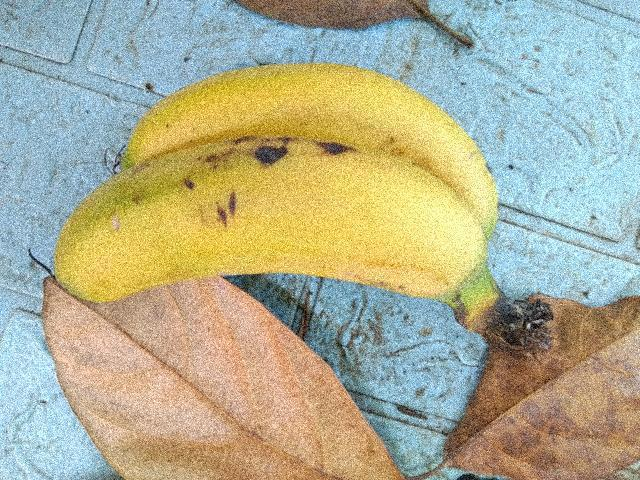freshripe: (115, 50, 479, 148)
ripe: (38, 121, 495, 336)
